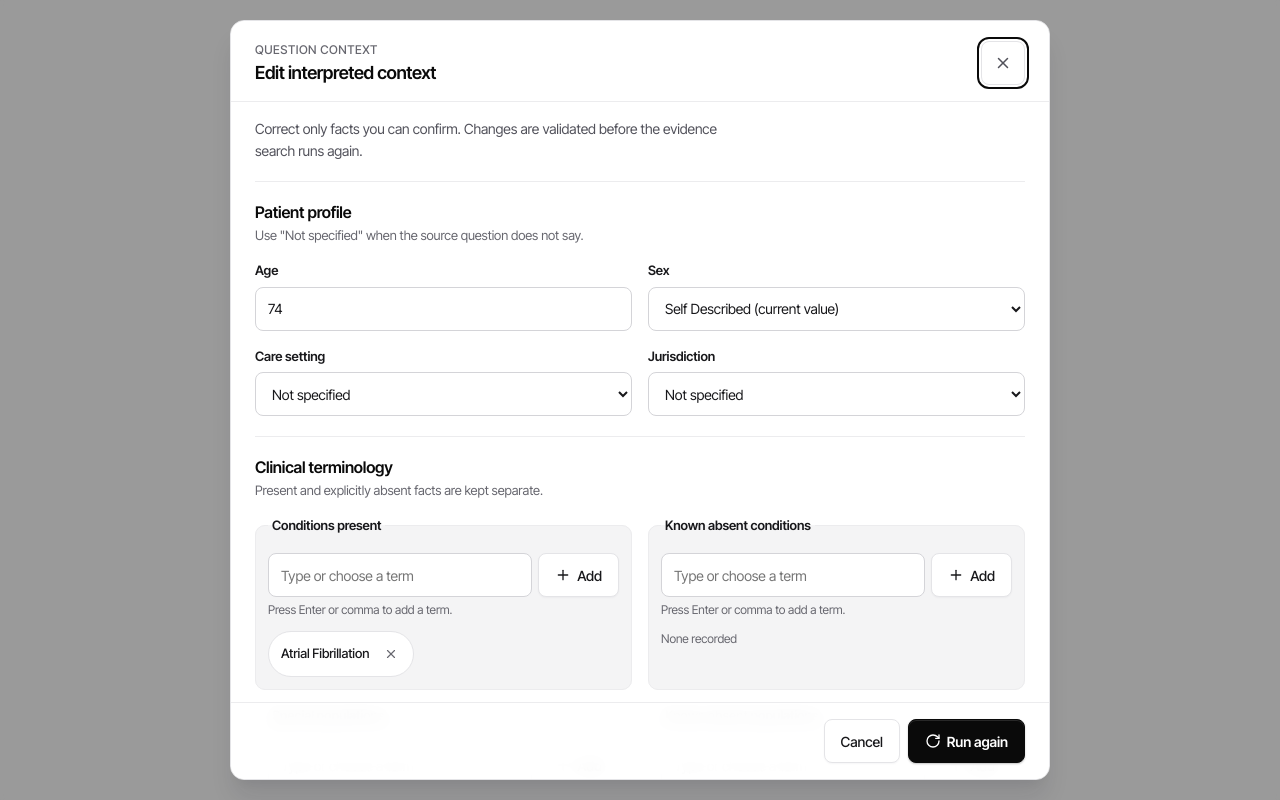
Test: ContextDialog › preserves unknown select values and summarizes before-and-after changes
Check: the dropdown labelled "Sex" shows "Self Described (current value)", box [648,286,1025,330]
Replace the text in the number field labelled "Age" with "75" at (444, 308), box [255,286,632,330]
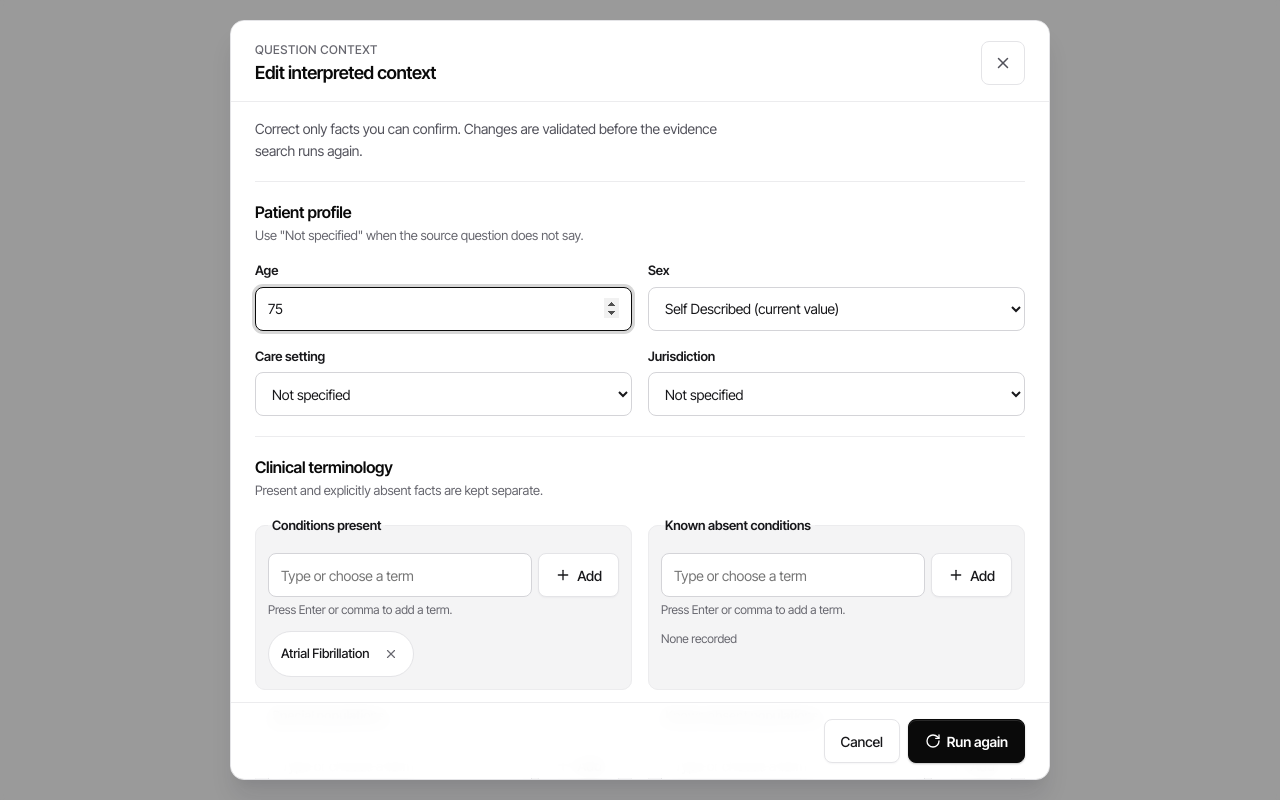
Press Tab
(page scrolled)
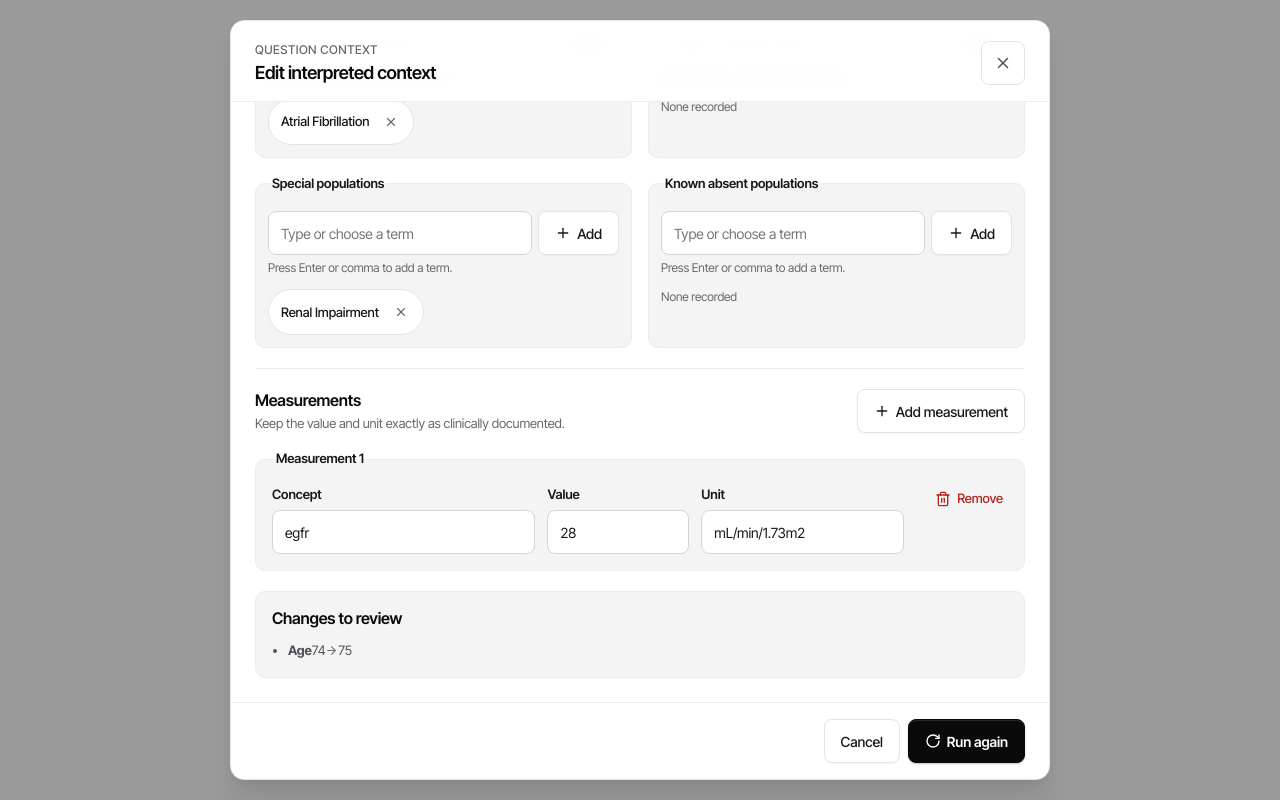
Check: the text "Age" is shown, box [288,642,312,658]
Check: the text "74" is shown, box [312,642,325,658]
Check: the text "75" is shown, box [338,642,352,658]
